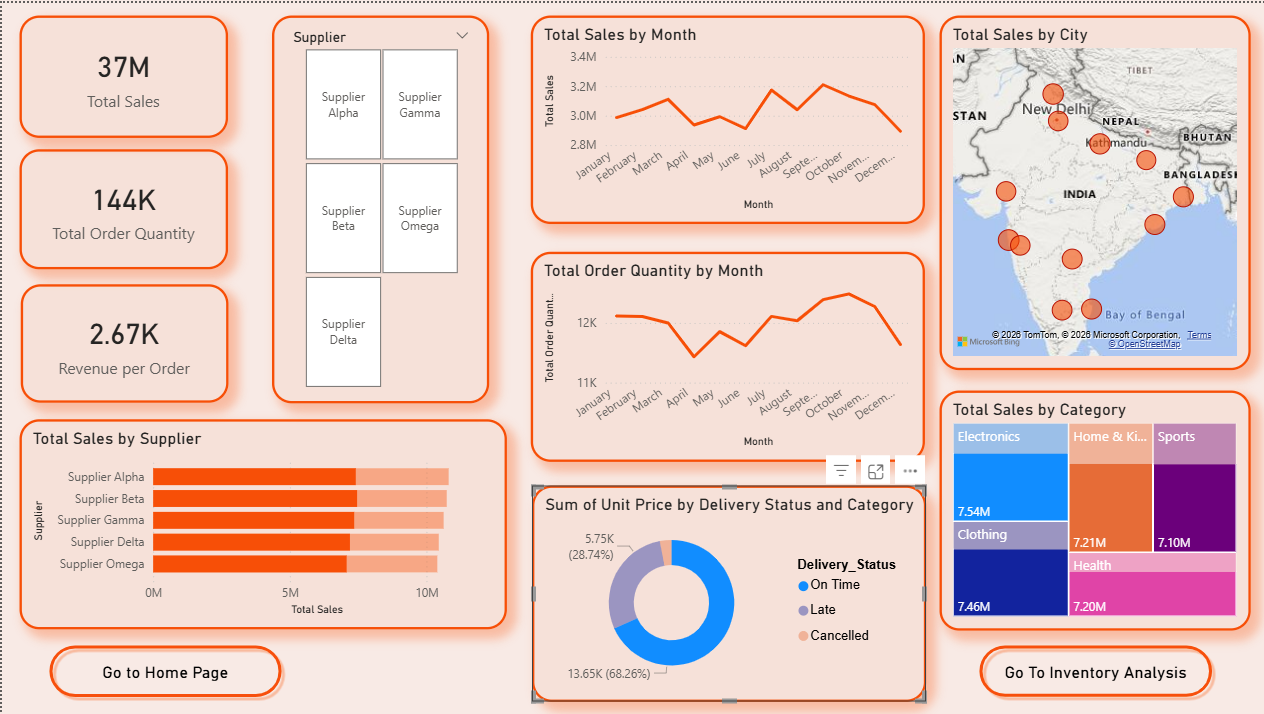

The dashboard page shown, as its layout file describes it:
{"tool":"powerbi","page":{"name":"Supply Analysis","canvas":[1280,720],"ordinal":1},"visuals":[{"type":"lineChart","fields":{"Y":["Sum(Supply_Chain_Inventory_Data.Order_Quantity)"],"Category":["Supply_Chain_Inventory_Data.Order_Date.Variation.Date Hierarchy.Month"]},"box":[534.9,252.5,399.3,212.7],"z":0},{"type":"donutChart","title":"Sum of Unit Price by Delivery Status and Category","fields":{"Category":["Supply_Chain_Inventory_Data.Delivery_Status"],"Series":["Supply_Chain_Inventory_Data.Category"],"Y":["Sum(Supply_Chain_Inventory_Data.Unit_Price)"]},"box":[536.1,488.9,399.3,218.9],"z":1000},{"type":"map","fields":{"Category":["Supply_Chain_Inventory_Data.City"],"Size":["Supply_Chain_Inventory_Data.Total Sales"]},"box":[949.4,12.7,315.2,359.5],"z":2000},{"type":"treemap","title":"Total Sales by Category","fields":{"Group":["Supply_Chain_Inventory_Data.Category"],"Values":["Supply_Chain_Inventory_Data.Total Sales"]},"box":[949.4,392.4,315.2,243],"z":3000},{"type":"lineChart","fields":{"Category":["Supply_Chain_Inventory_Data.Order_Date.Variation.Date Hierarchy.Month"],"Y":["Supply_Chain_Inventory_Data.Total Sales"]},"box":[534.9,12.4,399.3,211.5],"z":4000},{"type":"actionButton","box":[984.8,645.6,245.6,62],"z":5000},{"type":"barChart","fields":{"Category":["Supply_Chain_Inventory_Data.Supplier"],"Y":["Supply_Chain_Inventory_Data.Total Sales"]},"box":[17.4,421.7,493.9,212.7],"z":6000},{"type":"slicer","fields":{"Values":["Supply_Chain_Inventory_Data.Supplier"]},"box":[273.8,12.5,220,392.5],"z":7000},{"type":"actionButton","box":[43.5,645.6,245.1,62.2],"z":8000},{"type":"card","fields":{"Values":["Supply_Chain_Inventory_Data.Total Sales"]},"box":[17.5,12.5,211.2,123.8],"z":9000},{"type":"card","fields":{"Values":["Sum(Supply_Chain_Inventory_Data.Order_Quantity)"]},"box":[17.5,147.5,211.2,121.2],"z":10000},{"type":"card","fields":{"Values":["Supply_Chain_Inventory_Data.Revenue per Order"]},"box":[18.8,285,210,120],"z":11000}]}

Visuals, with their boxes in screenshot pixels (x1, y1, x2, y2), scaled from the page's 1280x720 canvas onto the 1264x714 screenshot:
lineChart - Sum(Supply_Chain_Inventory_Data.Order_Quantity) x Supply_Chain_Inventory_Data.Order_Date.Variation.Date Hierarchy.Month: 528,250,923,461
"Sum of Unit Price by Delivery Status and Category" donutChart: 529,485,924,702
map - Supply_Chain_Inventory_Data.City x Supply_Chain_Inventory_Data.Total Sales: 938,13,1249,369
"Total Sales by Category" treemap: 938,389,1249,630
lineChart - Supply_Chain_Inventory_Data.Order_Date.Variation.Date Hierarchy.Month x Supply_Chain_Inventory_Data.Total Sales: 528,12,923,222
actionButton: 972,640,1215,702
barChart - Supply_Chain_Inventory_Data.Supplier x Supply_Chain_Inventory_Data.Total Sales: 17,418,505,629
slicer - Supply_Chain_Inventory_Data.Supplier: 270,12,488,402
actionButton: 43,640,285,702
card - Supply_Chain_Inventory_Data.Total Sales: 17,12,226,135
card - Sum(Supply_Chain_Inventory_Data.Order_Quantity): 17,146,226,266
card - Supply_Chain_Inventory_Data.Revenue per Order: 19,283,226,402
